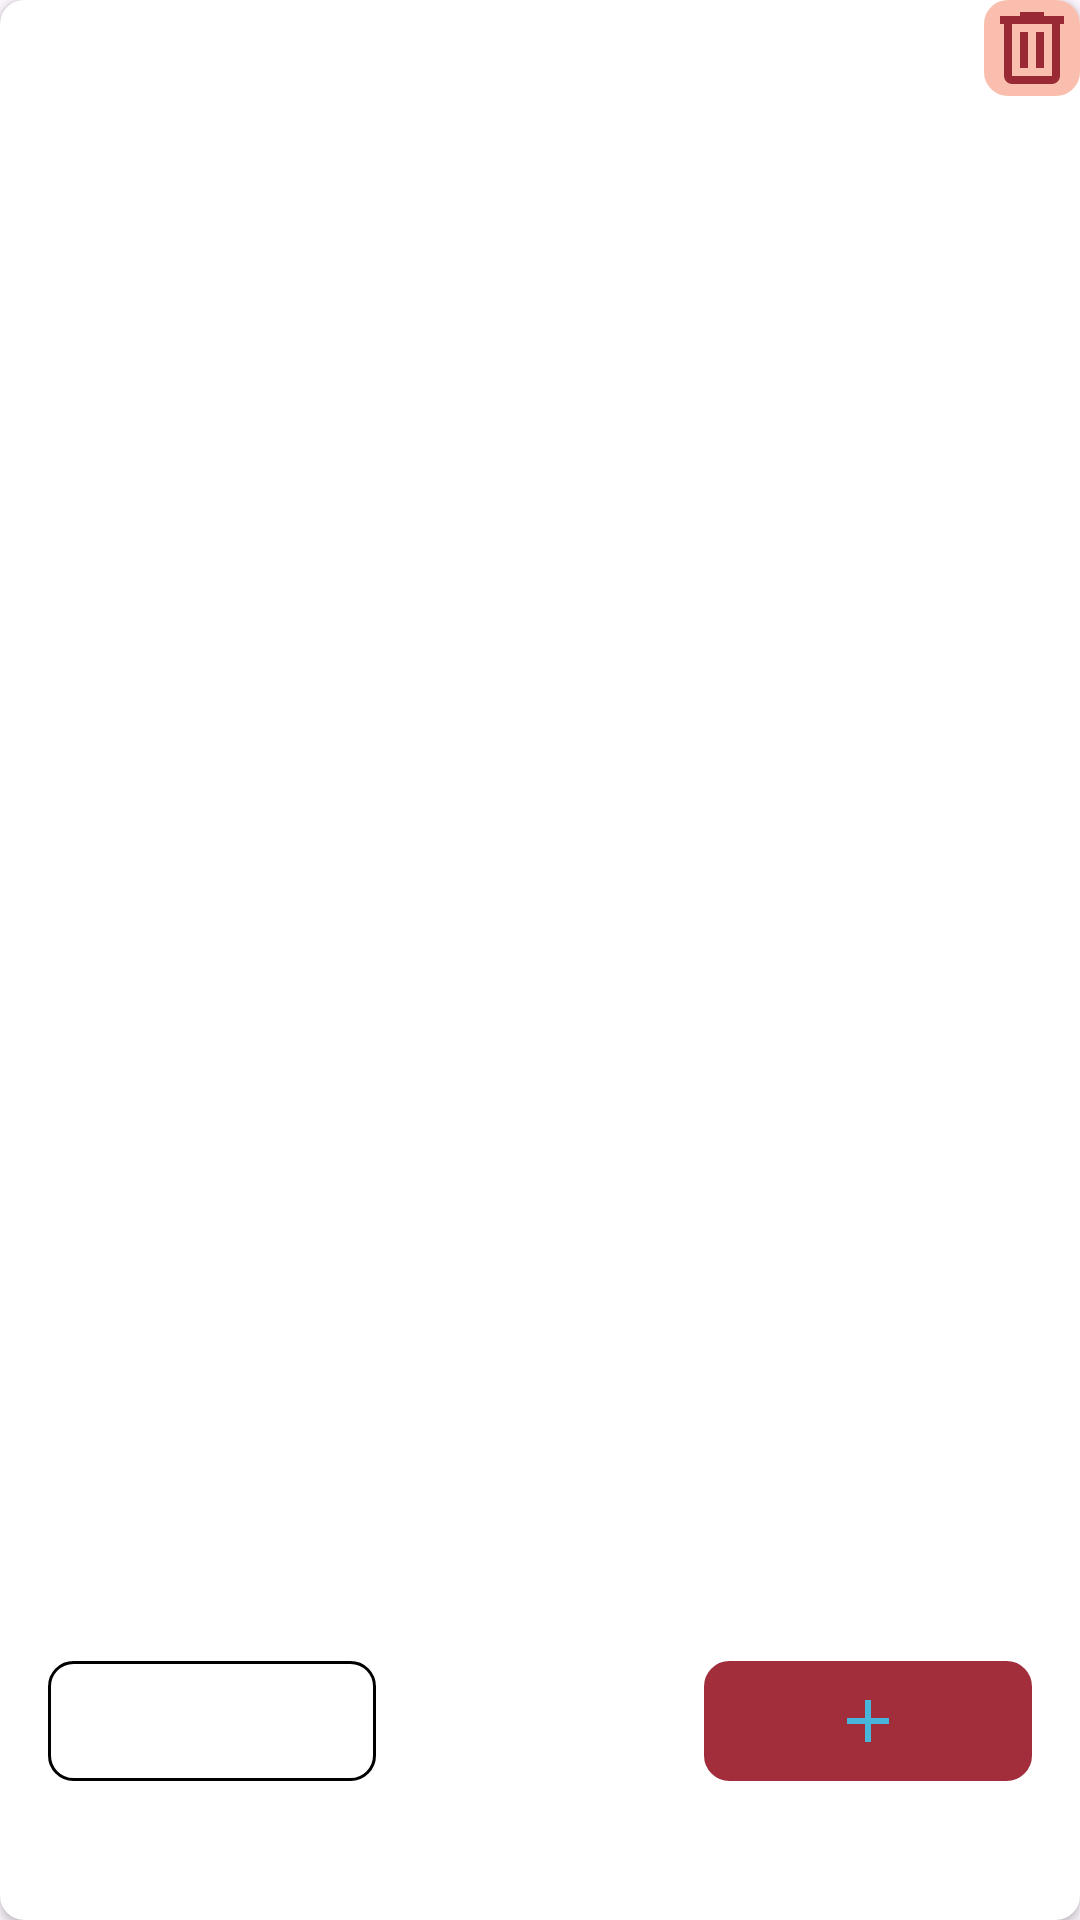

Screen size 1080x1920. Icon name, then its box in pixels as {"x1": x1, "y1": y1, "x2": x2, "y2": y2}:
delete: {"x1": 984, "y1": 0, "x2": 1080, "y2": 96}
